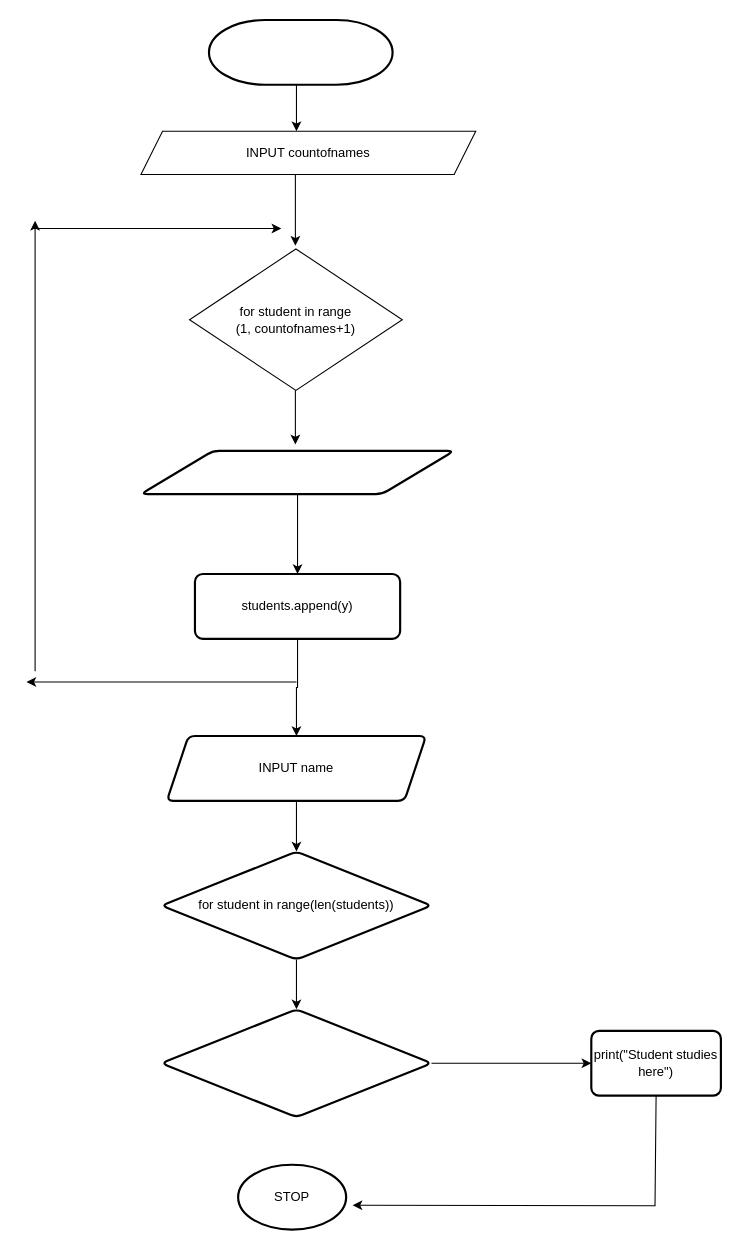
The diagram is 741 pixels wide and 1248 high, and some of its shapes have lost their labels. Each missing label, with the centre of its shape:
"if (name == students[student]" belongs at point (296, 1063).
"INPUT y" belongs at point (297, 472).
"START" belongs at point (300, 51).
